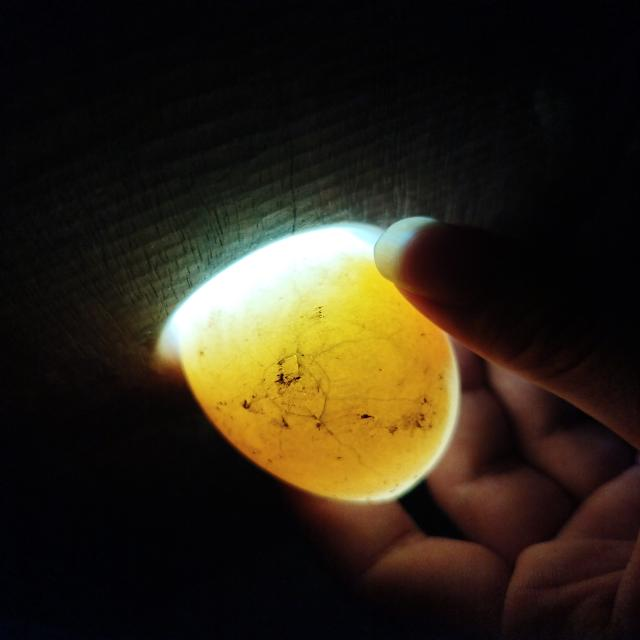Rachadura: (257, 296, 412, 474)
